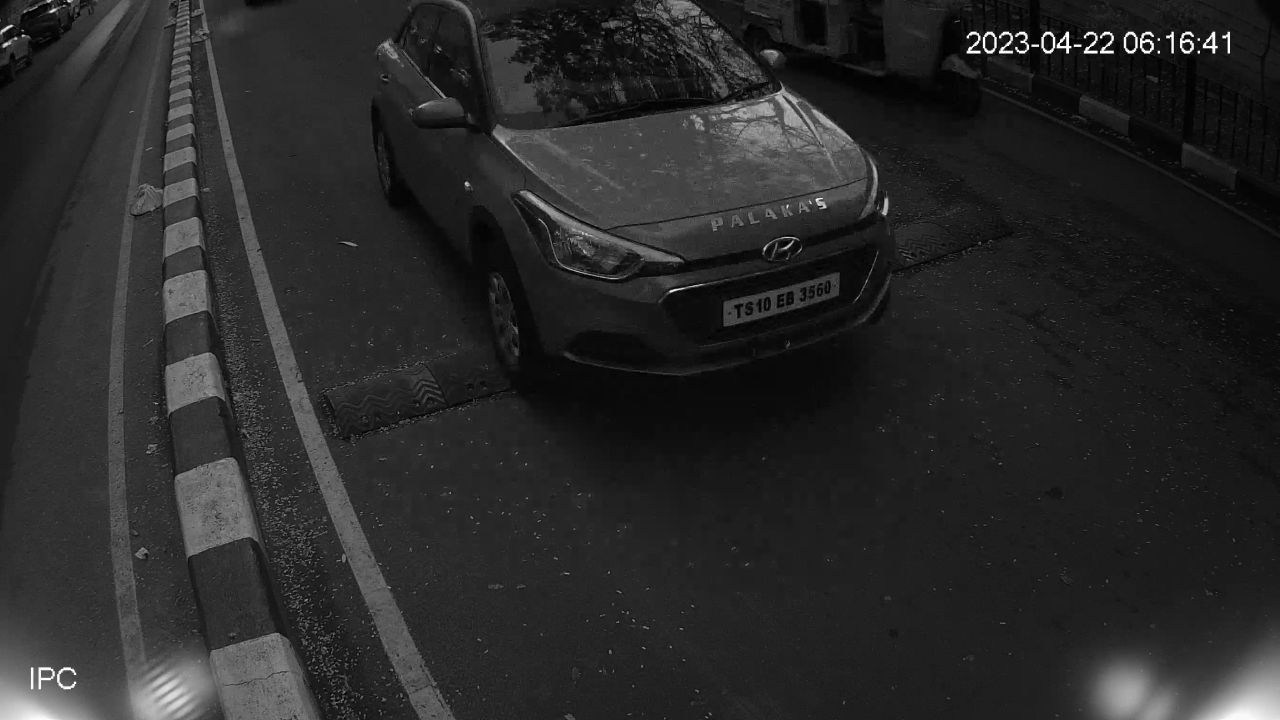license_plate: (721, 270, 844, 335)
